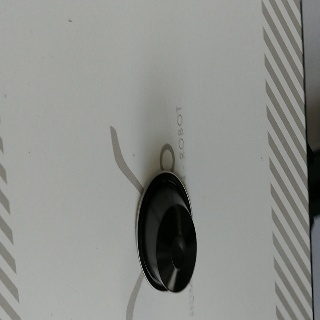capsule_10: (135, 170, 198, 294)
